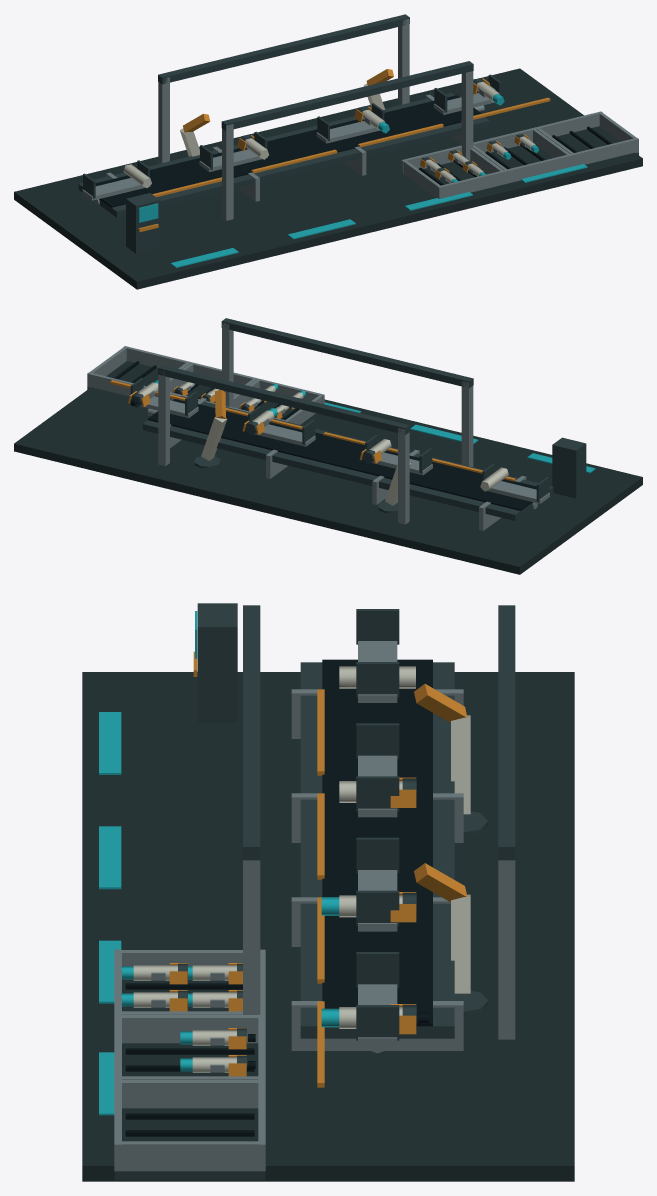
The model's file is missile_factory_d0_lod2.meshopt.glb.
3 renders of one model, top to bottom at view 1: azimuth 30°, elevation 25°; view 2: azimuth 150°, elevation 25°; view 3: azimuth 270°, elevation 25°, orthographic. The views are drawn at different scales.
Parts seen in each view (by area): view 1: MISSILE_FACTORY_DISTANCE_GEOMETRY; view 2: MISSILE_FACTORY_DISTANCE_GEOMETRY; view 3: MISSILE_FACTORY_DISTANCE_GEOMETRY.
Part boxes in pixels (x1=…): MISSILE_FACTORY_DISTANCE_GEOMETRY: x1=14, y1=14, x2=642, y2=289; MISSILE_FACTORY_DISTANCE_GEOMETRY: x1=14, y1=318, x2=642, y2=574; MISSILE_FACTORY_DISTANCE_GEOMETRY: x1=82, y1=603, x2=574, y2=1181.
Size of the model in its own units: 19.15 by 3.74 by 8.
